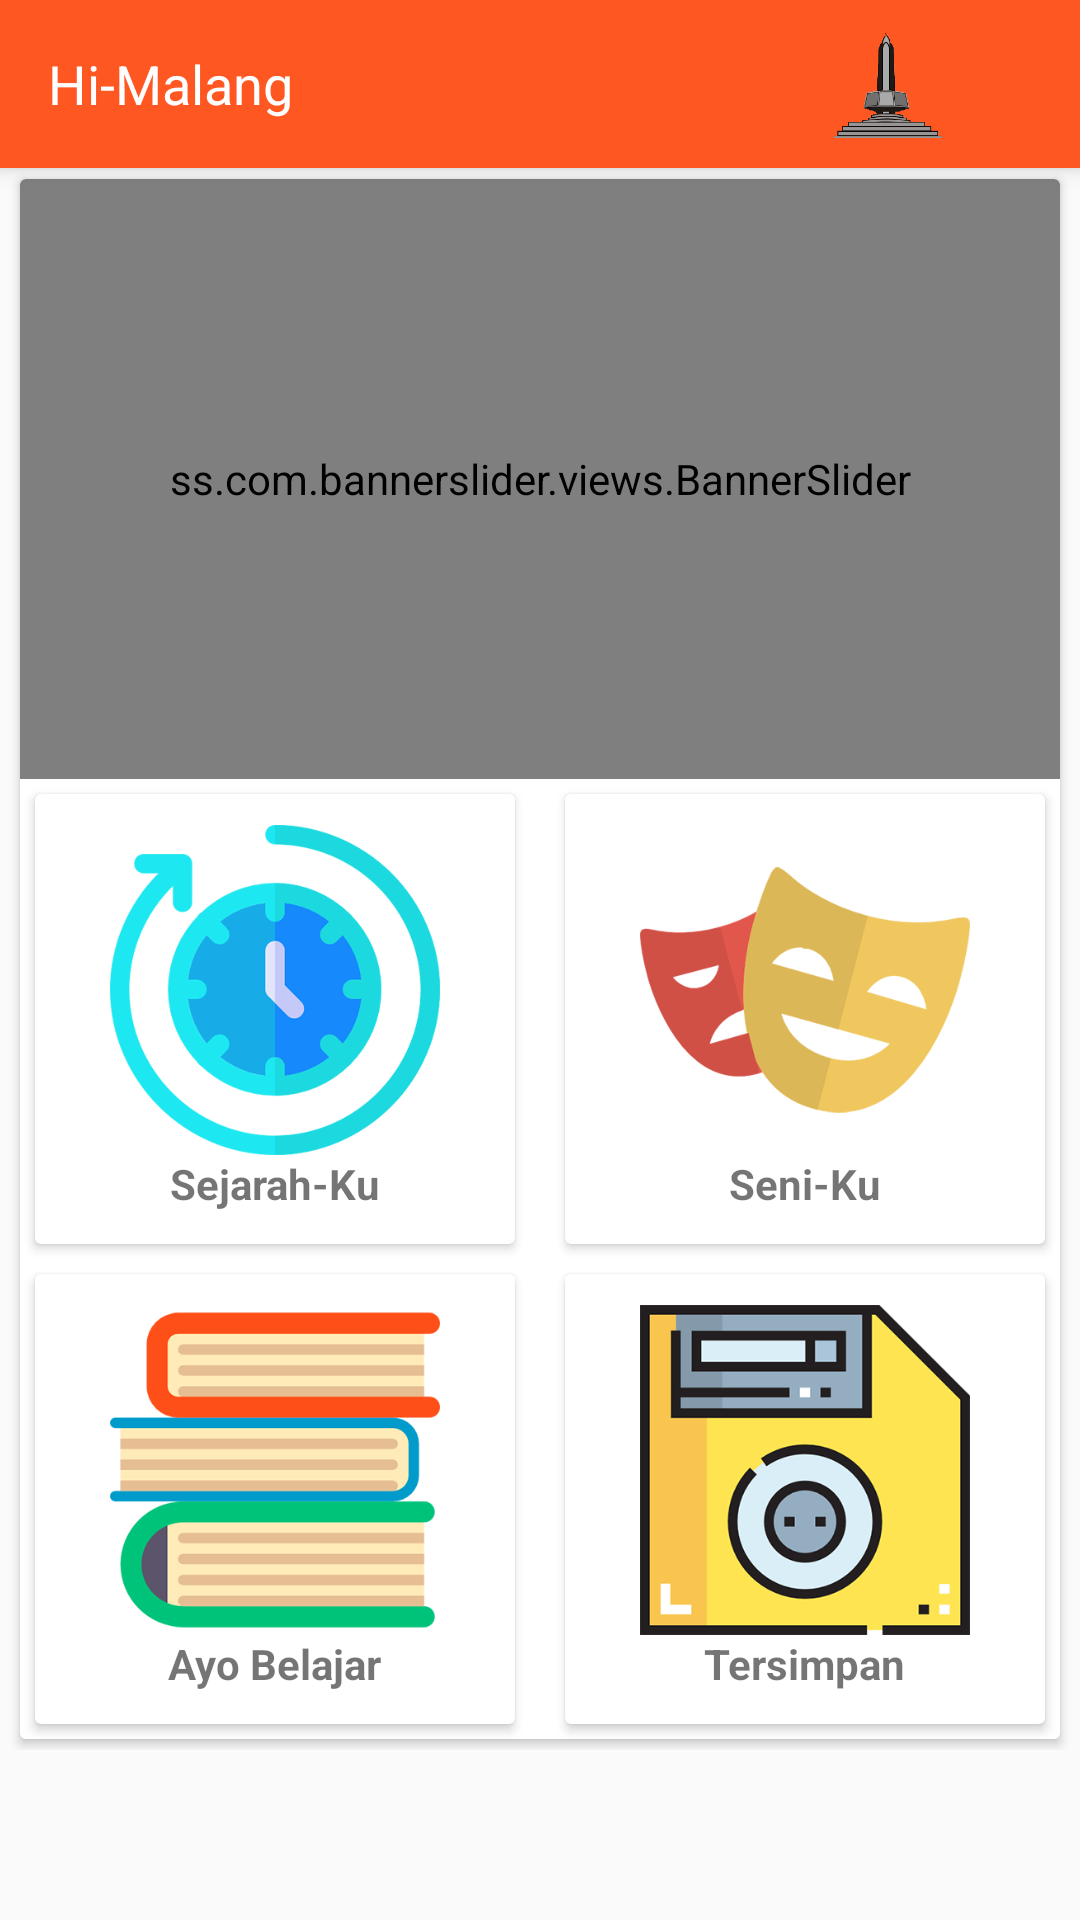

Named icons in this screenshot (1080 × 1920) and their centers, (x,y):
buku: (275,1470)
disket: (805,1470)
topeng: (805,990)
